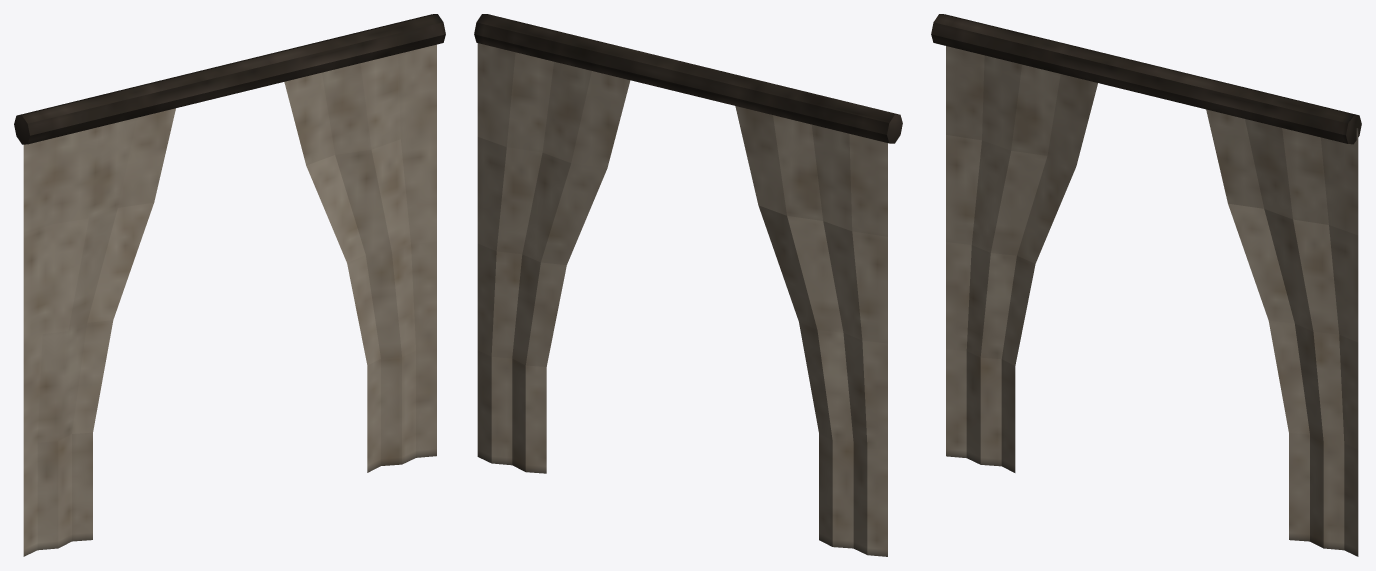
File: SM_EC_House_Curtain_04.fbx
3 views of the same model, side by side, from view 1: azimuth 30°, elevation 25°; view 2: azimuth 150°, elevation 25°; view 3: azimuth 330°, elevation 25° (orthographic).
Visible parts, largest first — view 1: SM_EC_House_Curtain_04; view 2: SM_EC_House_Curtain_04; view 3: SM_EC_House_Curtain_04.
Part boxes in pixels (x1,y1,x2,y2): SM_EC_House_Curtain_04: [14, 14, 445, 556]; SM_EC_House_Curtain_04: [474, 14, 902, 556]; SM_EC_House_Curtain_04: [931, 14, 1361, 556].
Size of the model in its own units: 1.67 by 0.1112 by 1.7.
